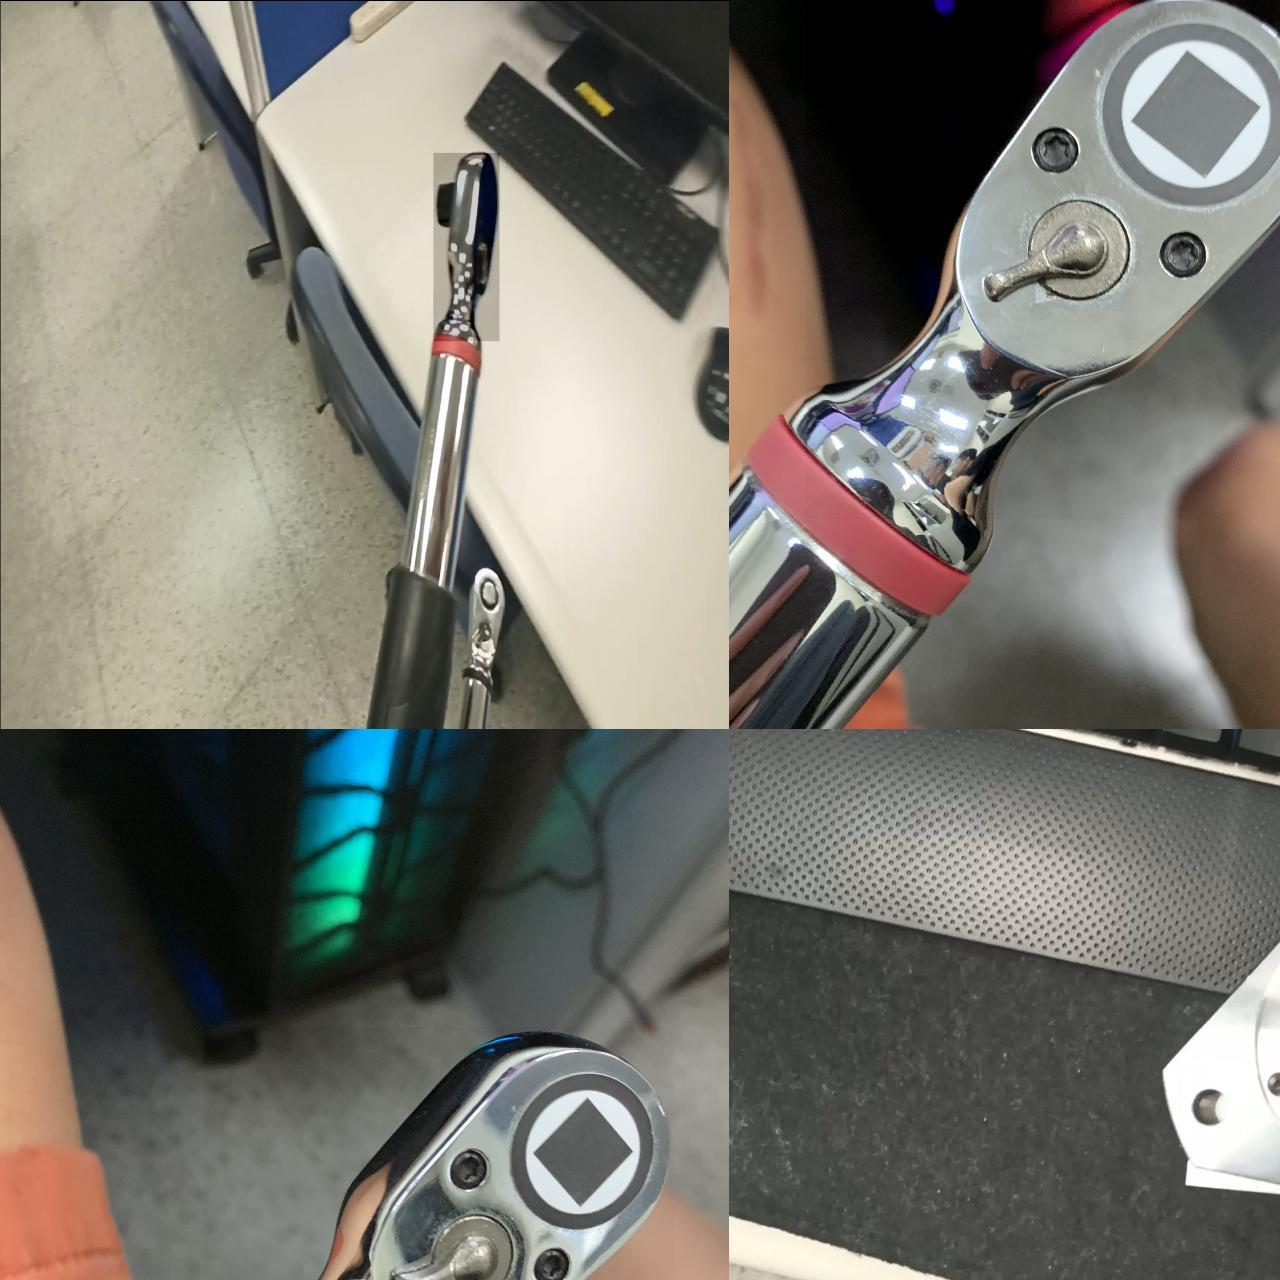Tool: (805, 0, 1280, 518), (203, 1026, 673, 1280), (433, 151, 499, 340), (467, 558, 504, 674)
